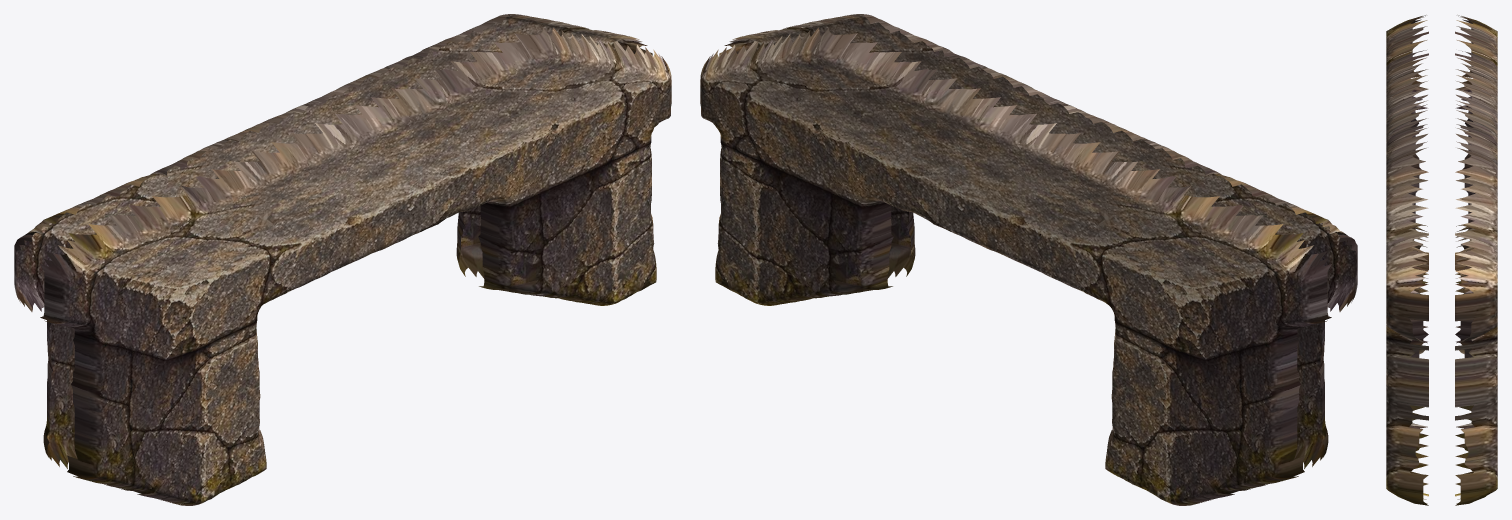
Rendered from v4-shrine-scatter-stone-bench.glb.
3 renders of one model, left to right at view 1: azimuth 30°, elevation 25°; view 2: azimuth 150°, elevation 25°; view 3: azimuth 270°, elevation 25°, orthographic. The views are drawn at different scales.
Visible parts, largest first — view 1: v4-shrine-scatter-stone-bench; view 2: v4-shrine-scatter-stone-bench; view 3: v4-shrine-scatter-stone-bench.
Part boxes in pixels (left/top/right/bottom): v4-shrine-scatter-stone-bench: left=14, top=14, right=671, bottom=505; v4-shrine-scatter-stone-bench: left=700, top=14, right=1357, bottom=505; v4-shrine-scatter-stone-bench: left=1386, top=15, right=1497, bottom=505.
Bounding box in the file's own units: 0.7606 × 0.4456 × 0.1104.
1 material, 1 textured.
